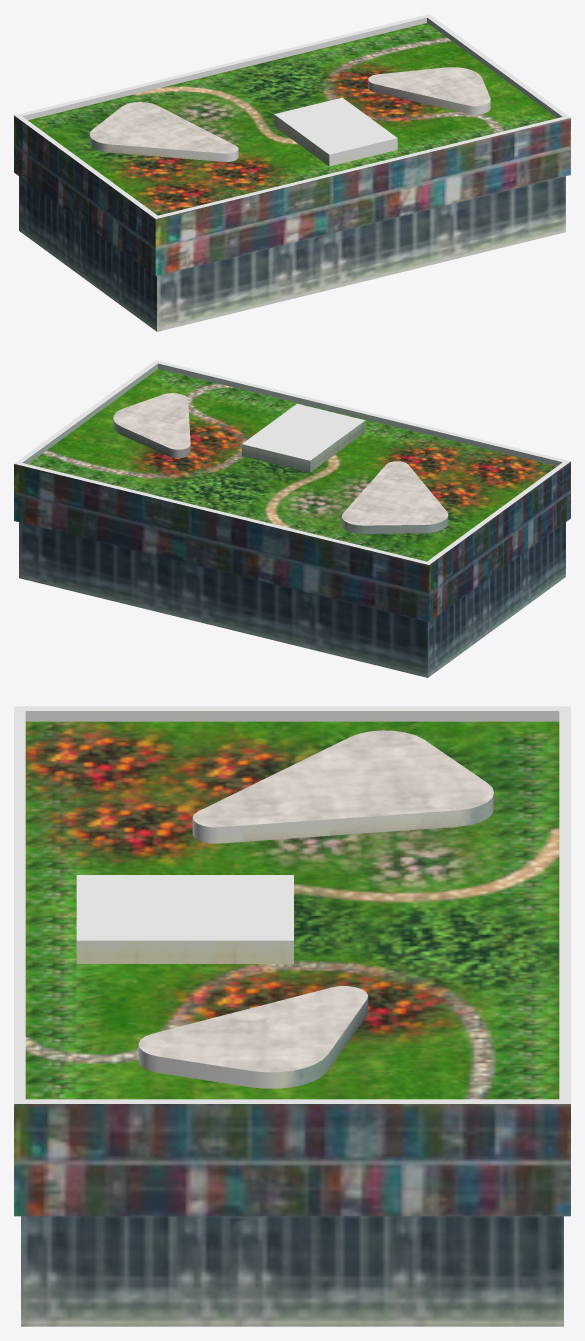
The model's file is 1B business02.obj.
The picture shows the model from 3 angles, top to bottom: view 1: azimuth 30°, elevation 25°; view 2: azimuth 150°, elevation 25°; view 3: azimuth 270°, elevation 25°; orthographic projection. The views are drawn at different scales.
Visible parts, largest first — view 1: 1B_business02; view 2: 1B_business02; view 3: 1B_business02.
Part boxes in pixels (x1,y1,x2,y2): 1B_business02: (14,14,570,331); 1B_business02: (14,360,570,677); 1B_business02: (14,706,570,1326).
Size of the model in its own units: 40.09 by 11.19 by 23.71.
1 material, 1 textured.
